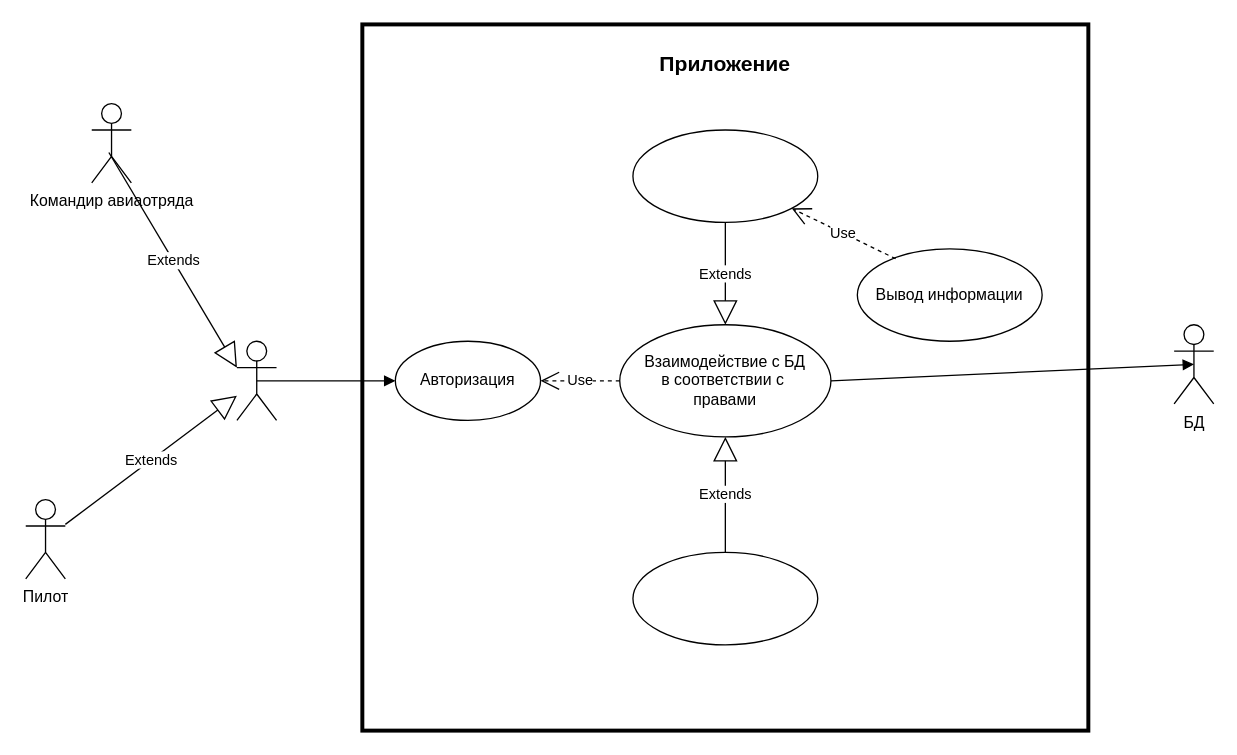
This 1237x755 diagram has some shape labels left out. The shapes that lost their labels are listed below. From the top down, each one's centre as x and y in pixels, then its label:
the point at 725,175: Выборка
the point at 256,380: Member
the point at 725,598: Вставка/изменени/удаление
